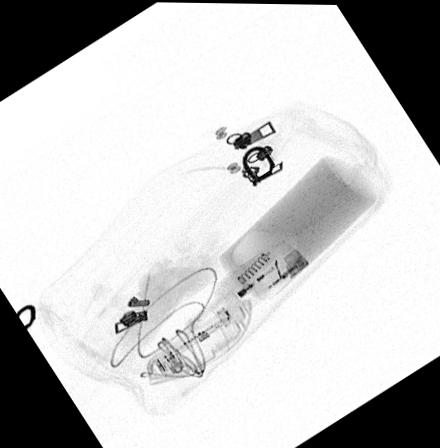Lighter: (208, 241, 308, 328)
